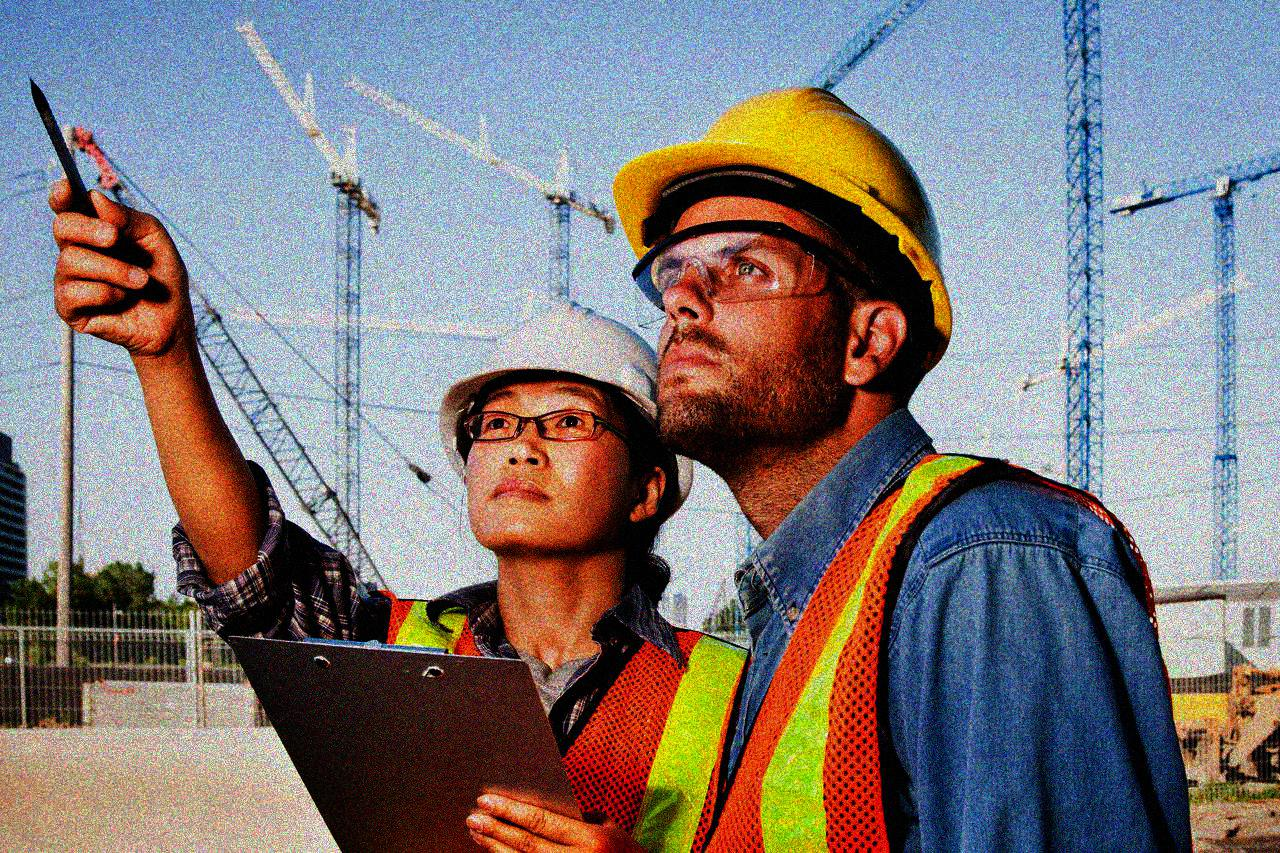helmet: (606, 87, 960, 451), (431, 294, 701, 557)
